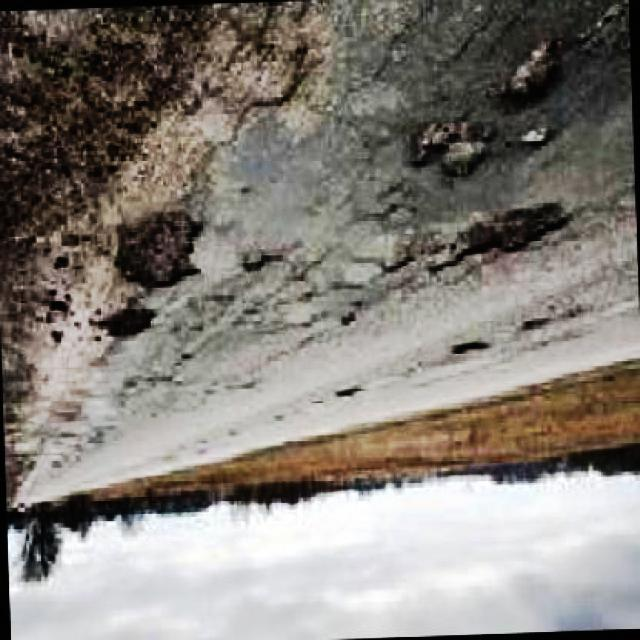pothole: (425, 203, 577, 275), (112, 206, 214, 291), (410, 117, 504, 180), (498, 31, 572, 109)
